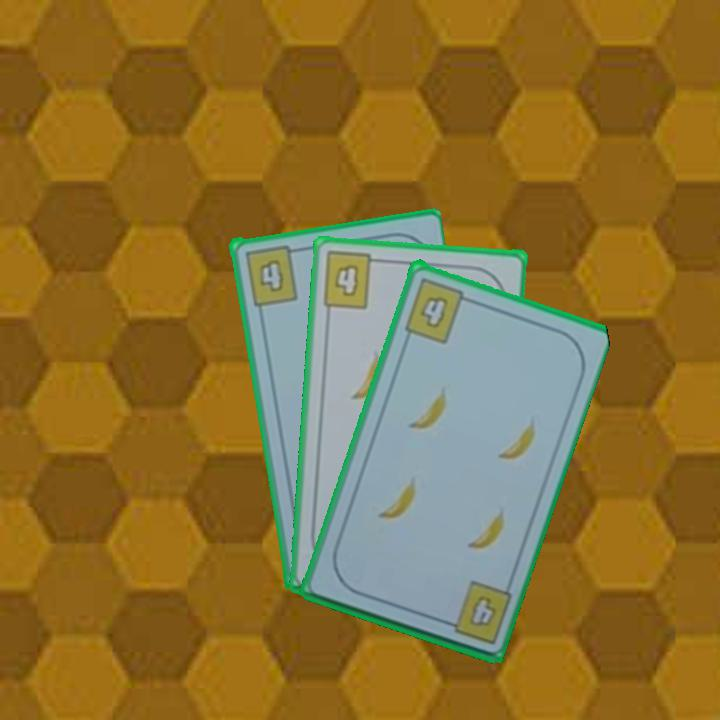4b: (436, 577, 514, 647), (400, 273, 475, 345), (318, 248, 386, 312), (241, 241, 303, 308)
